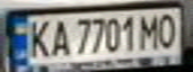0: (103, 15, 124, 53)
1: (121, 12, 139, 52)
7: (72, 16, 93, 55), (87, 15, 106, 54)
A: (48, 16, 72, 57)
K: (24, 17, 54, 60)
M: (136, 11, 163, 50)
O: (154, 10, 181, 49)
